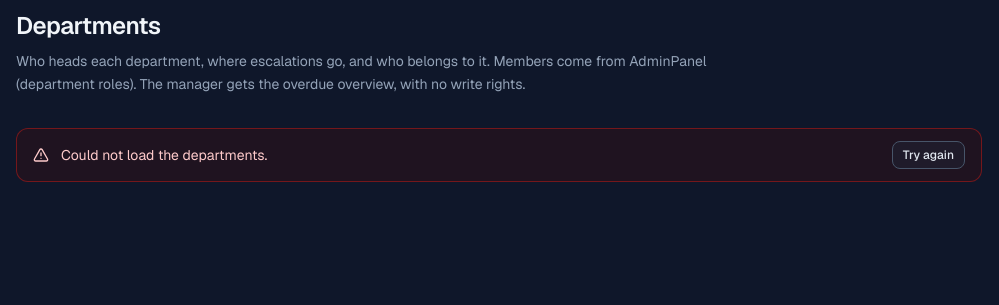
Scenario: DepartmentsAdminPage › shows an error with retry when the overview fails, and an empty state
The width and height of the screenshot is (999, 305).
expect the message with test id "dept-error" shows "Could not load": met, box [61, 146, 267, 164]
Click the button "Try again" at (928, 154), box [892, 140, 965, 168]
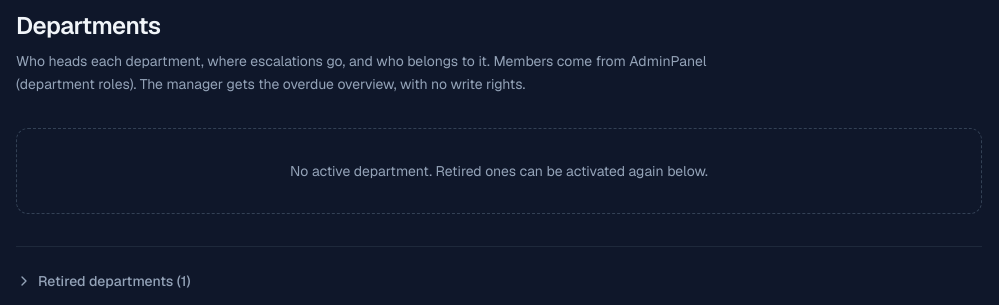
expect the text with test id "dept-empty" is shown: met, box [16, 128, 982, 214]
